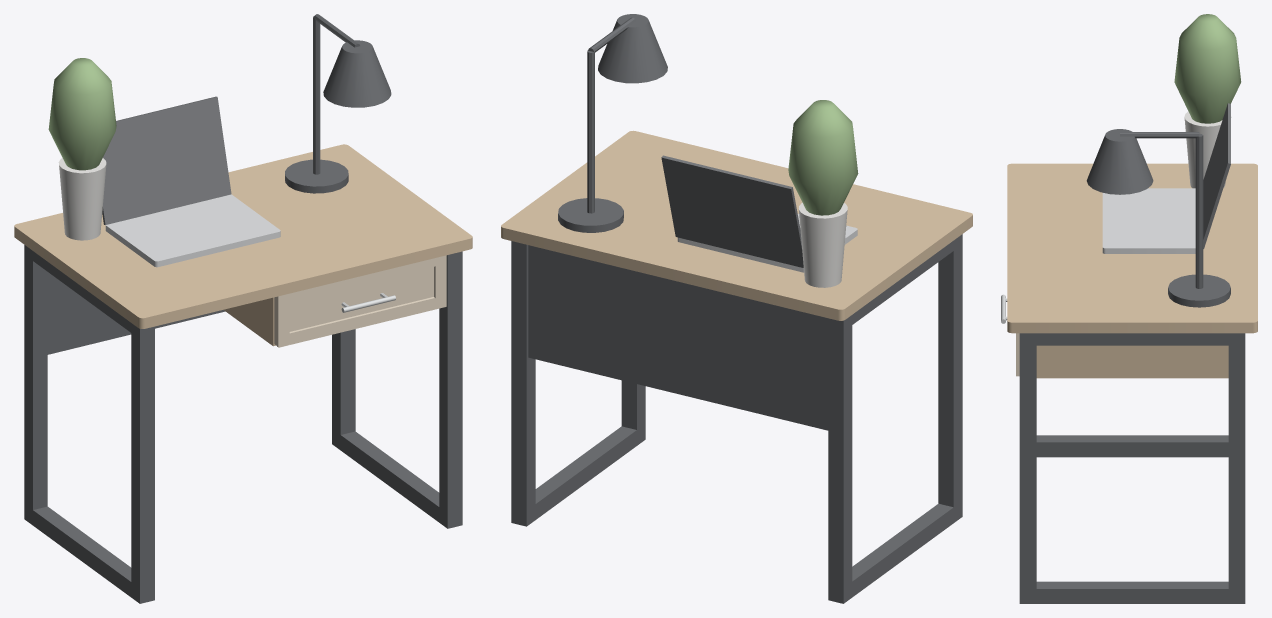
The picture shows the model from 3 angles, left to right: view 1: azimuth 30°, elevation 25°; view 2: azimuth 150°, elevation 25°; view 3: azimuth 270°, elevation 25°; orthographic projection. The views are drawn at different scales.
Visible parts, largest first — view 1: Bàn học Dài=900; Sâu=600; view 2: Bàn học Dài=900; Sâu=600; view 3: Bàn học Dài=900; Sâu=600.
Boxes of the visible parts, x1,y1,x2,y2 form: Bàn học Dài=900; Sâu=600: (14,14,472,603); Bàn học Dài=900; Sâu=600: (501,14,972,603); Bàn học Dài=900; Sâu=600: (1001,14,1257,603).
Size of the model in its own units: 0.9 by 1.19 by 0.615.
